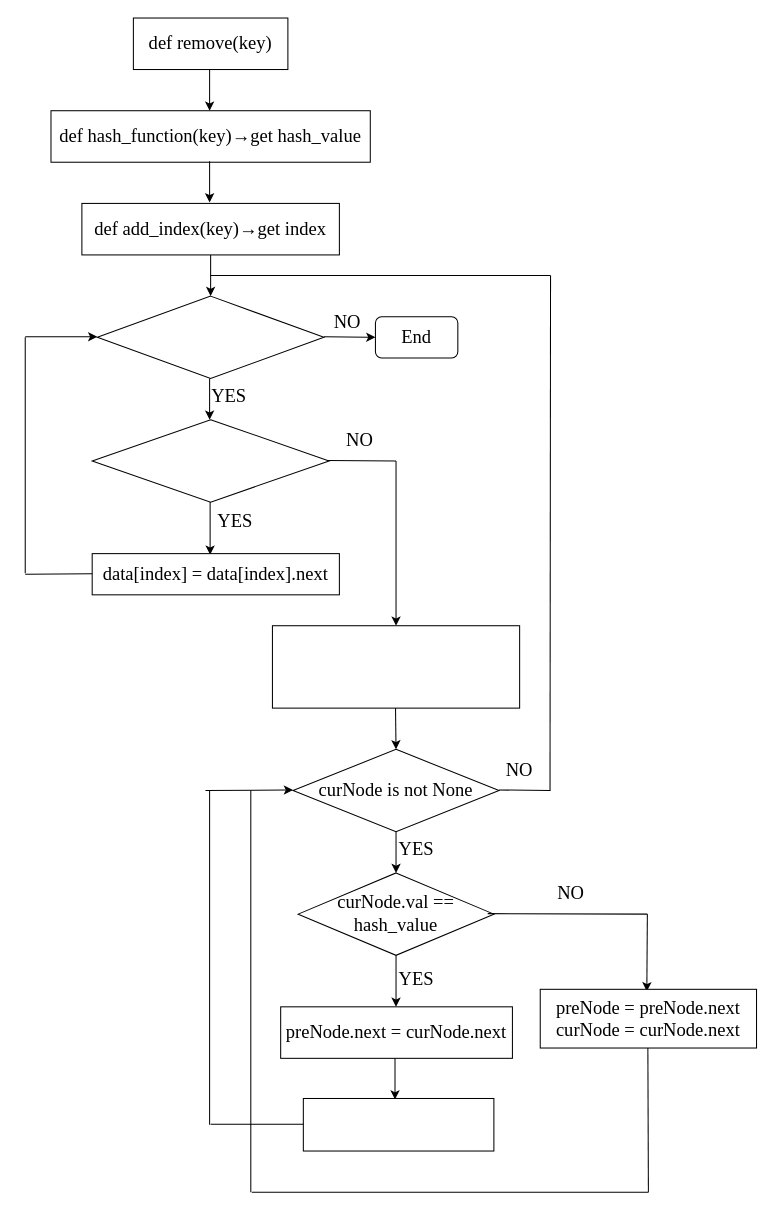
This 775x1211 diagram has some shape labels left out. The shapes that lost their labels are listed below. From the top down, each one's centre as x and y in pixels, then its label:
pixel 210 337: self.contains(key) is True
pixel 210 460: data[index].val == hash_value
pixel 395 666: preNode = data[index] curNode = data[index].next
pixel 398 1124: curNode = curNode.next
